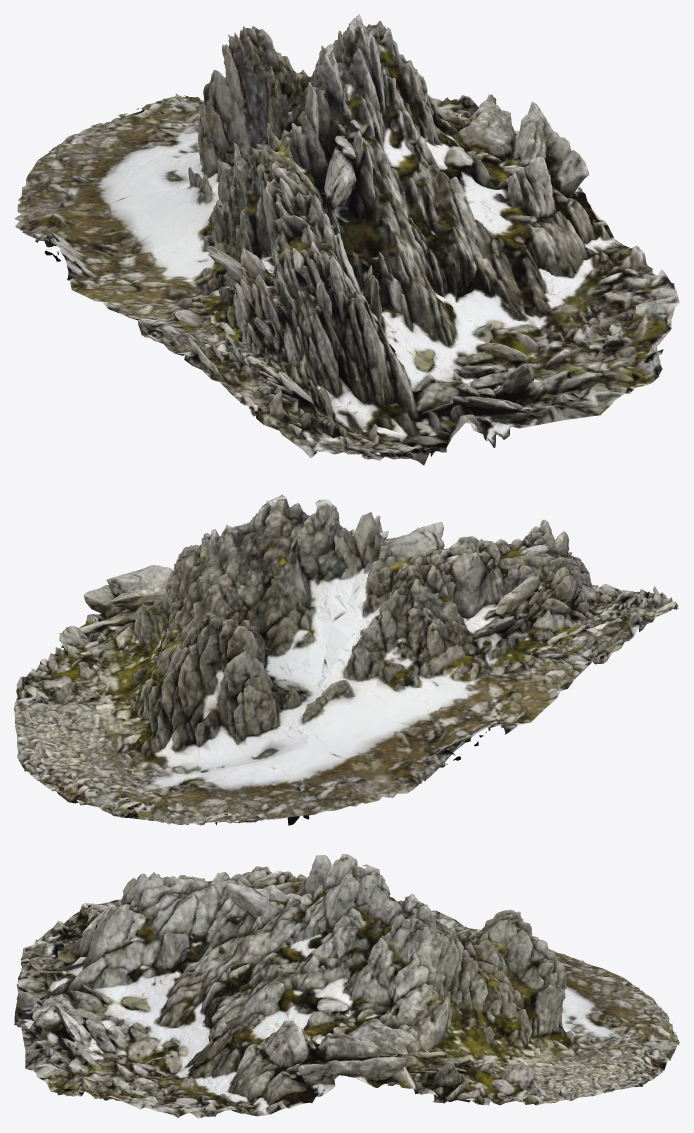
Rendered from glyder.glb.
3 renders of one model, top to bottom at view 1: azimuth 30°, elevation 25°; view 2: azimuth 150°, elevation 25°; view 3: azimuth 270°, elevation 25°, orthographic. The views are drawn at different scales.
Visible parts, largest first — view 1: Object_4; view 2: Object_4; view 3: Object_4.
Boxes of the visible parts, box(x1,y1,x2,y2) form: Object_4: box(14, 14, 679, 465); Object_4: box(14, 494, 678, 825); Object_4: box(14, 854, 679, 1118).
Size of the model in its own units: 24.7 by 11.45 by 35.24.
1 material, 1 textured.
